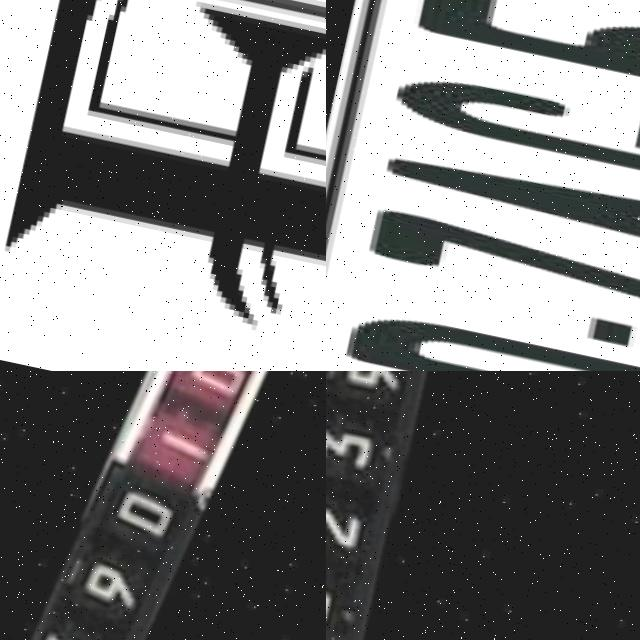0: (105, 482, 178, 542), (178, 371, 250, 402)
1: (149, 420, 222, 473)
2: (326, 502, 368, 555)
3: (326, 425, 377, 473), (27, 625, 104, 640)
5: (416, 0, 640, 135)
9: (73, 556, 149, 620), (339, 371, 406, 399)
A: (374, 132, 640, 295)
D: (332, 299, 640, 371)
E: (6, 0, 326, 324)
G: (379, 58, 640, 224)
Z: (356, 203, 640, 360), (418, 0, 640, 73)
